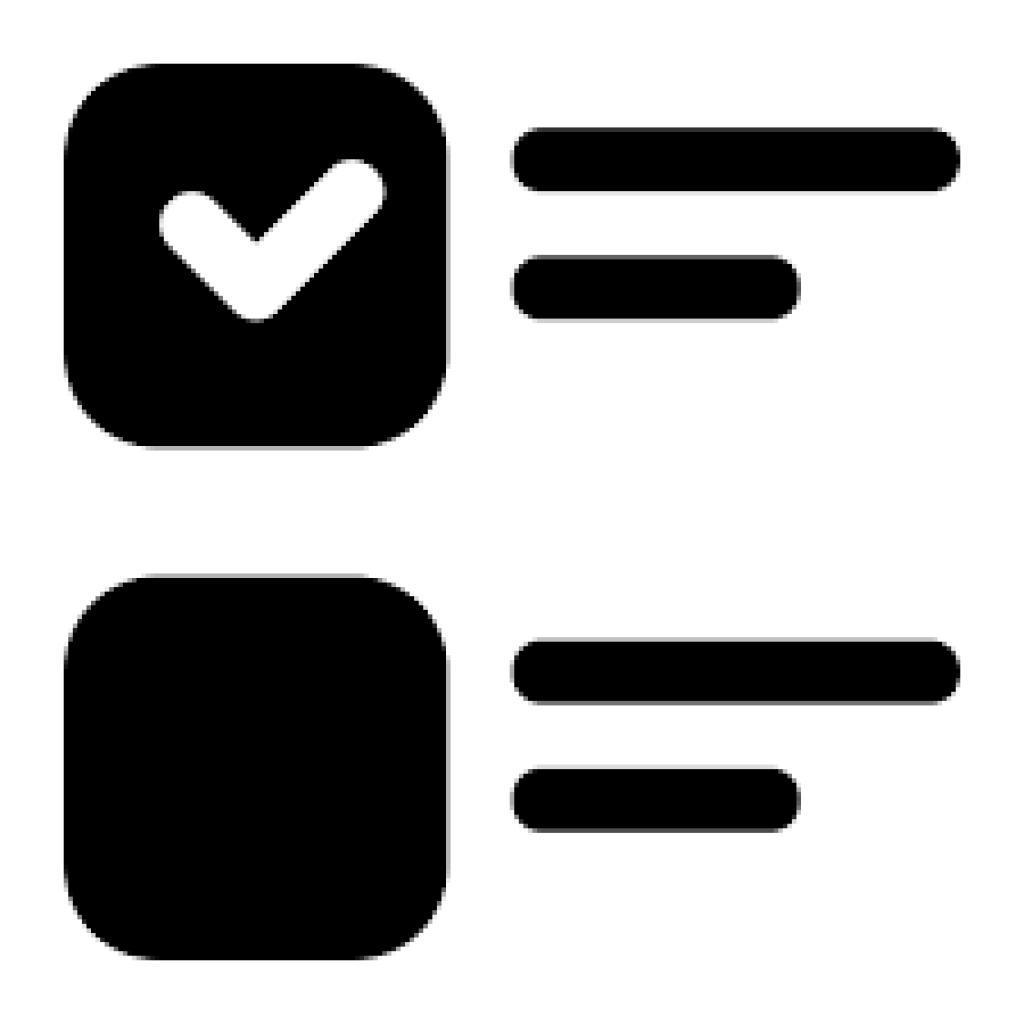checkbox: (66, 575, 450, 964), (64, 67, 447, 451)
label: (508, 635, 965, 837), (512, 122, 966, 323)
